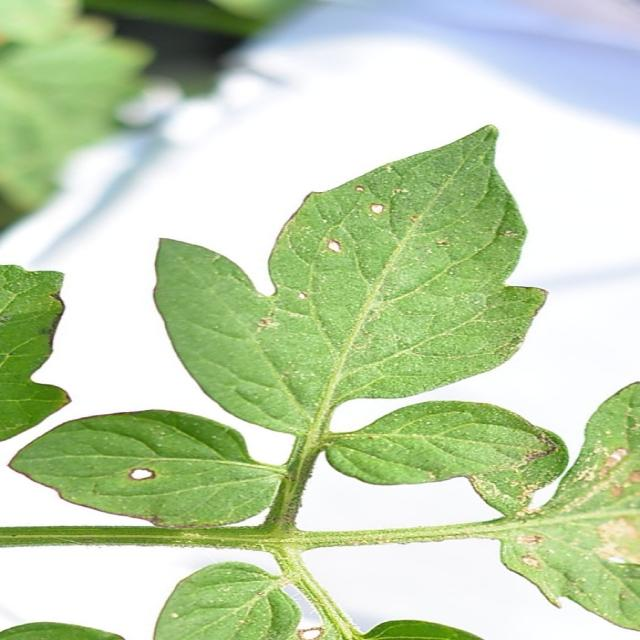infected: (470, 433, 640, 581), (318, 185, 451, 264), (269, 612, 342, 640), (115, 460, 174, 488)
